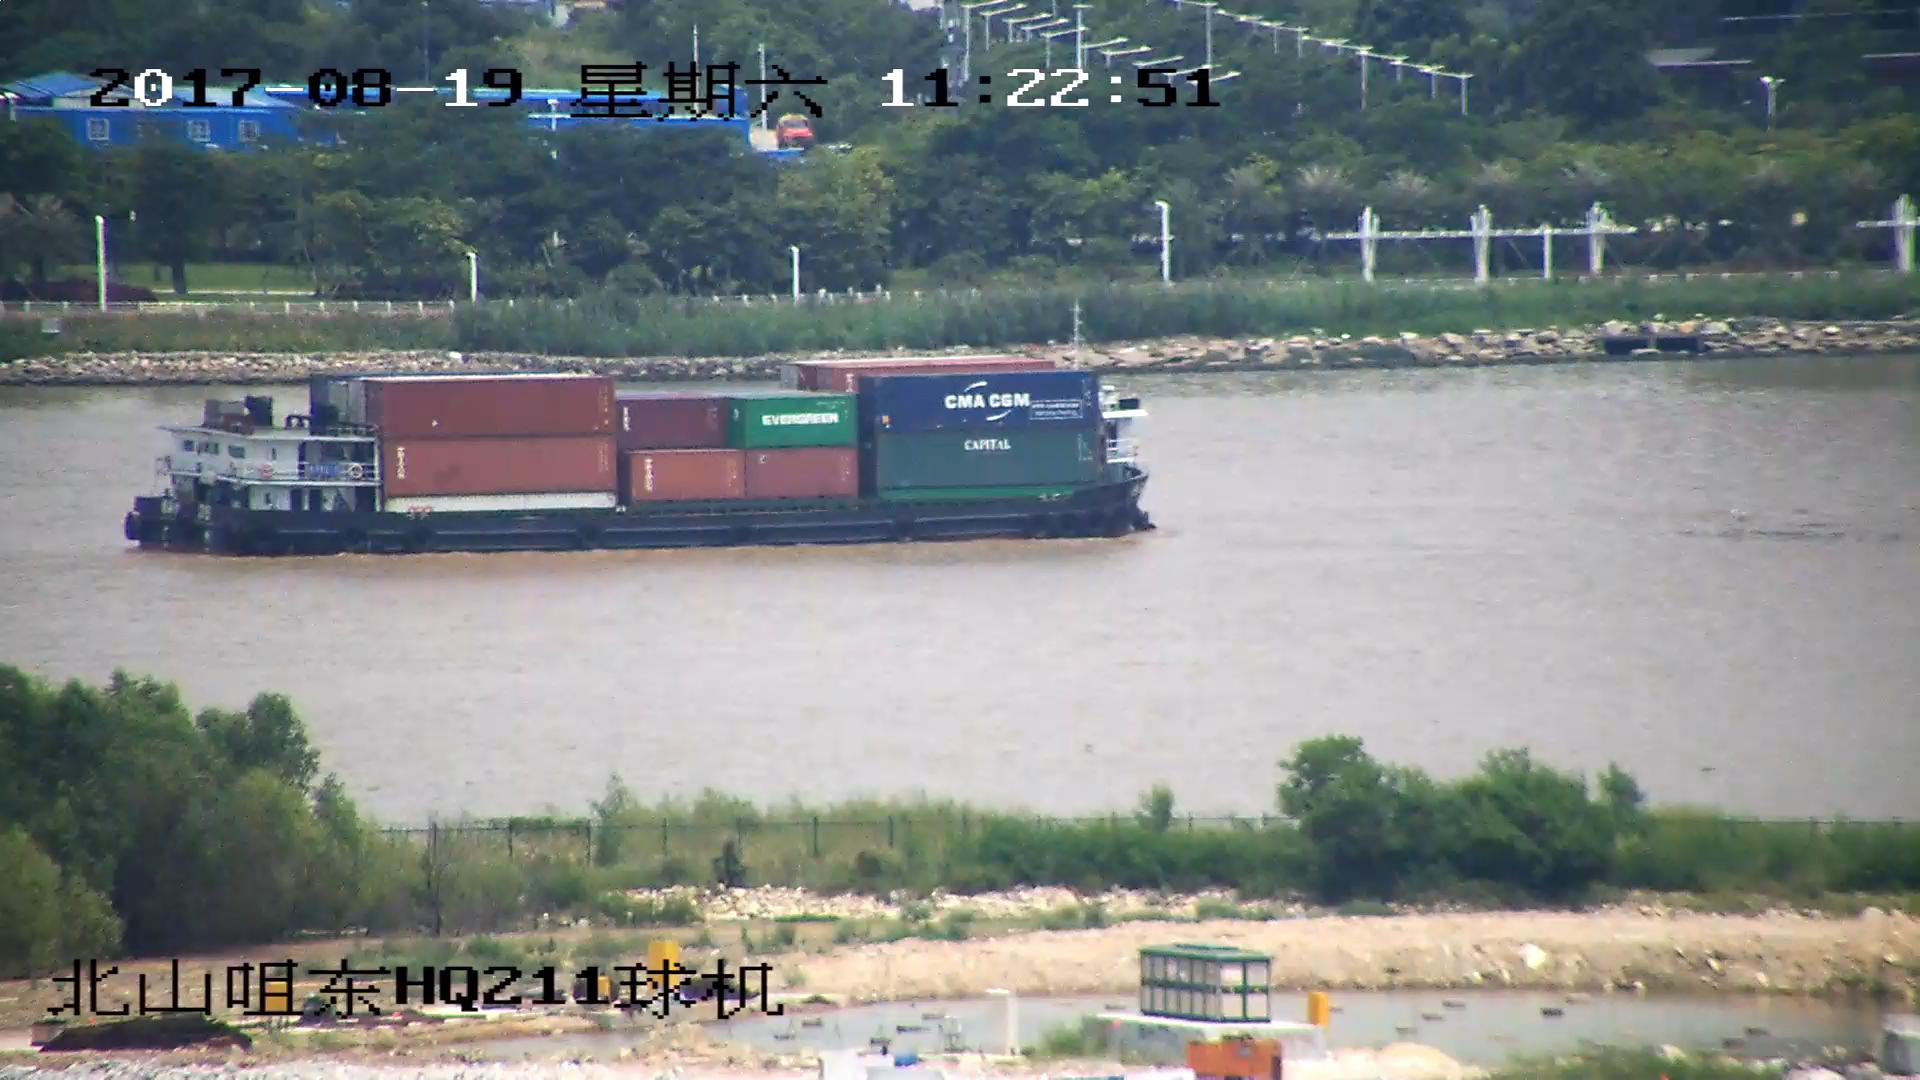container ship: (122, 315, 1156, 556)
